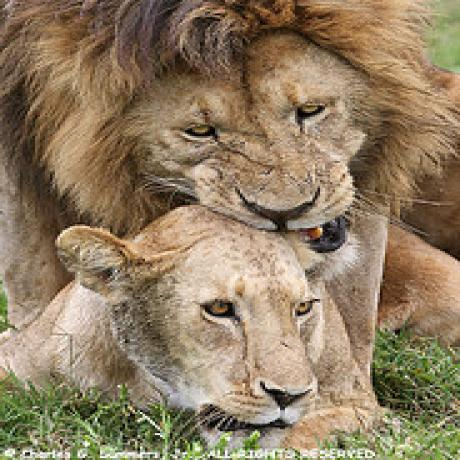Lion: (0, 0, 460, 261), (8, 202, 324, 456)
